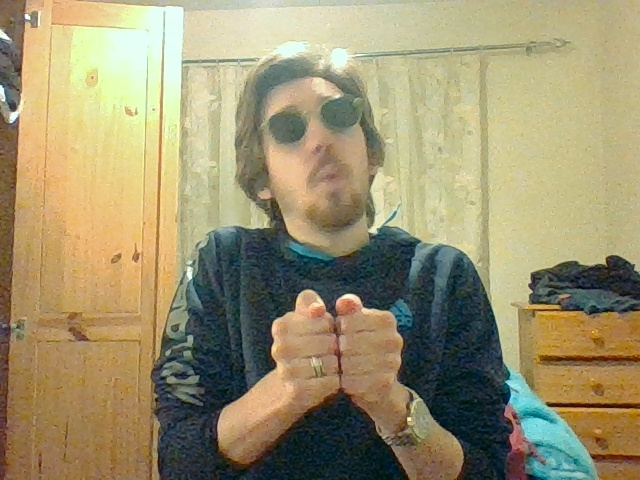brother: (270, 290, 403, 402)
